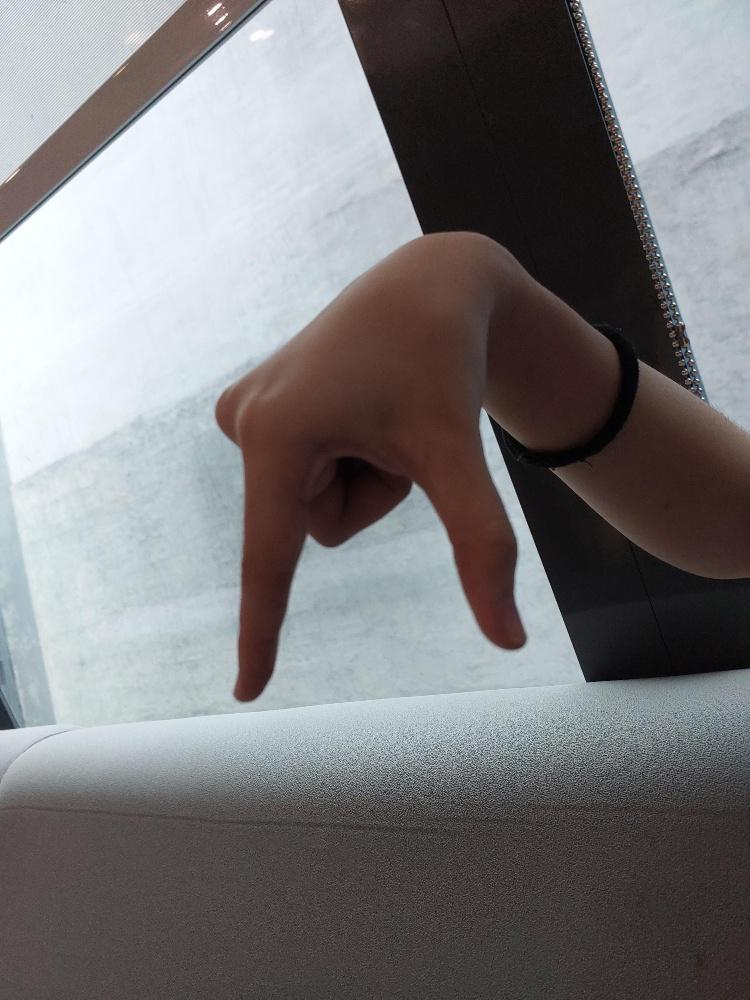q: (213, 229, 526, 703)
